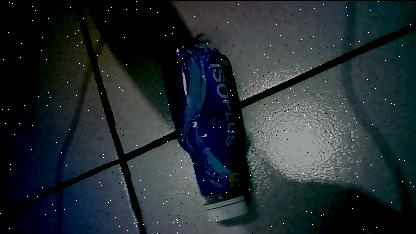Plastic Bottle: (147, 35, 265, 227)
